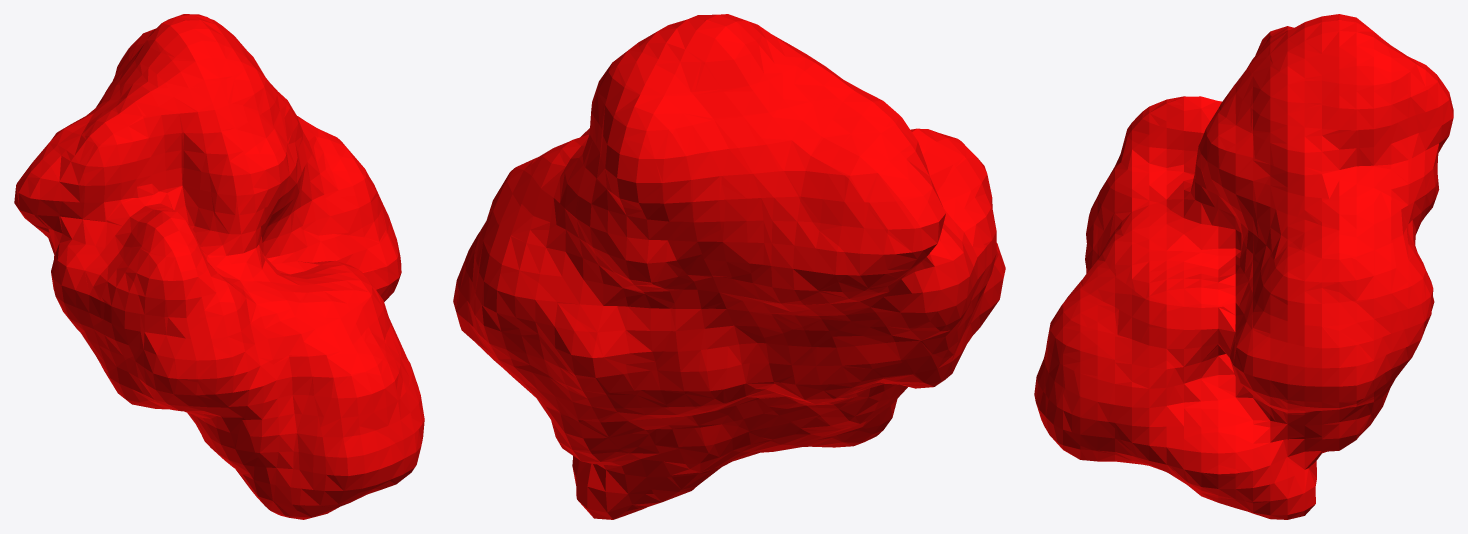
Rendered from yceF_coarse.dae.
3 renders of one model, left to right at view 1: azimuth 30°, elevation 25°; view 2: azimuth 150°, elevation 25°; view 3: azimuth 270°, elevation 25°, orthographic. The views are drawn at different scales.
Visible parts, largest first — view 1: yceF; view 2: yceF; view 3: yceF.
Part boxes in pixels (x1=…): yceF: x1=14, y1=14, x2=424, y2=519; yceF: x1=453, y1=14, x2=1005, y2=519; yceF: x1=1034, y1=14, x2=1453, y2=519.
Bounding box in the file's own units: 61 × 68.75 × 58.54.
